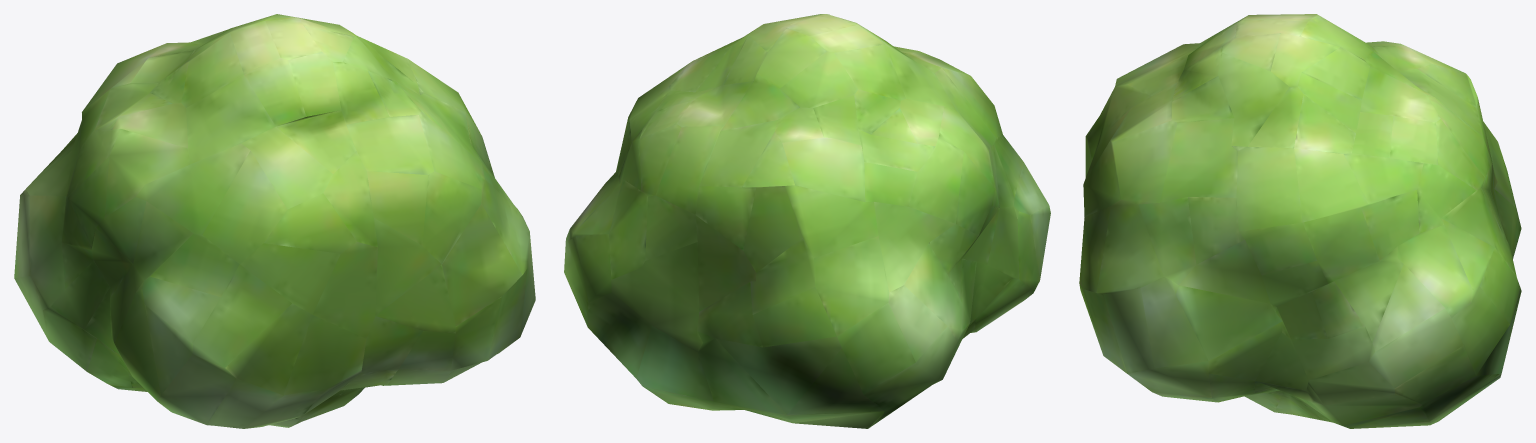
Rendered from proj_poison.glb.
The picture shows the model from 3 angles, left to right: view 1: azimuth 30°, elevation 25°; view 2: azimuth 150°, elevation 25°; view 3: azimuth 270°, elevation 25°; orthographic projection. The views are drawn at different scales.
Parts seen in each view (by area): view 1: Poison Cloud; view 2: Poison Cloud; view 3: Poison Cloud.
Part boxes in pixels (<box>): Poison Cloud: <box>14,14,535,428</box>; Poison Cloud: <box>564,14,1050,428</box>; Poison Cloud: <box>1079,14,1521,428</box>.
Size of the model in its own units: 1.99 by 1.88 by 1.99.
Materials: 1 (1 with a texture image).
